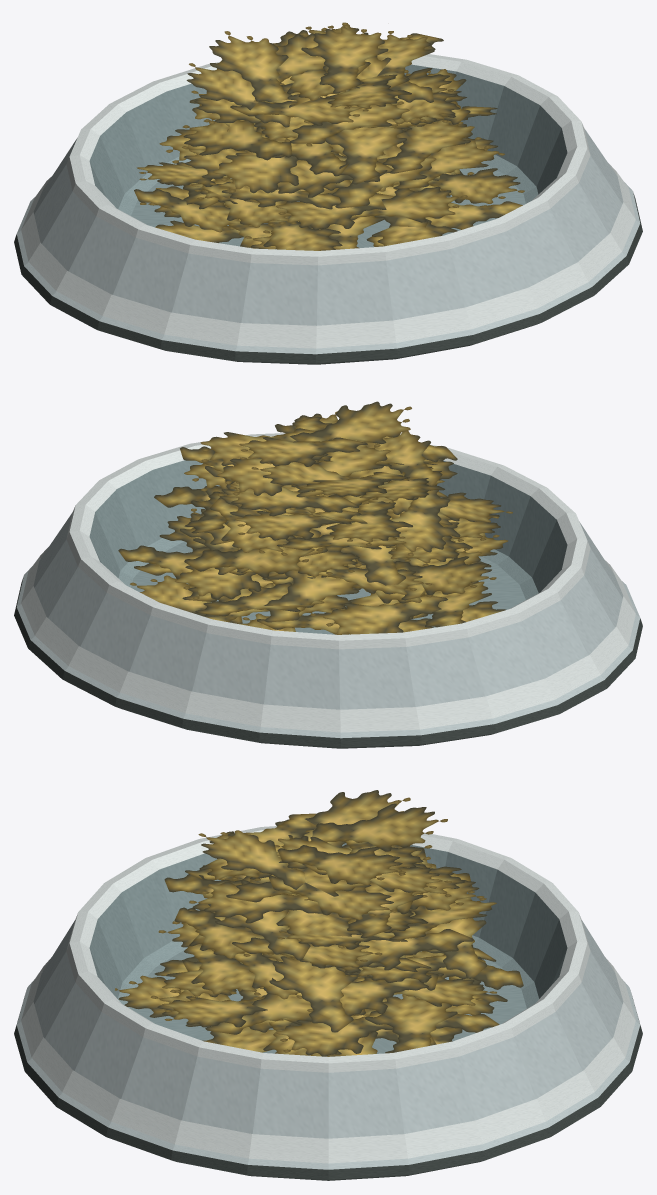
Rendered from food_bowl_wheat.obj.
The picture shows the model from 3 angles, top to bottom: view 1: azimuth 30°, elevation 25°; view 2: azimuth 150°, elevation 25°; view 3: azimuth 270°, elevation 25°; orthographic projection. The views are drawn at different scales.
Parts seen in each view (by area): view 1: food_bowl_wheat; view 2: food_bowl_wheat; view 3: food_bowl_wheat.
Boxes of the visible parts, left/top/right/bottom form: food_bowl_wheat: left=14, top=22, right=642, bottom=364; food_bowl_wheat: left=14, top=401, right=642, bottom=748; food_bowl_wheat: left=14, top=790, right=642, bottom=1180.
Size of the model in its own units: 14.16 by 4.43 by 12.89.
Materials: 1 (1 with a texture image).
